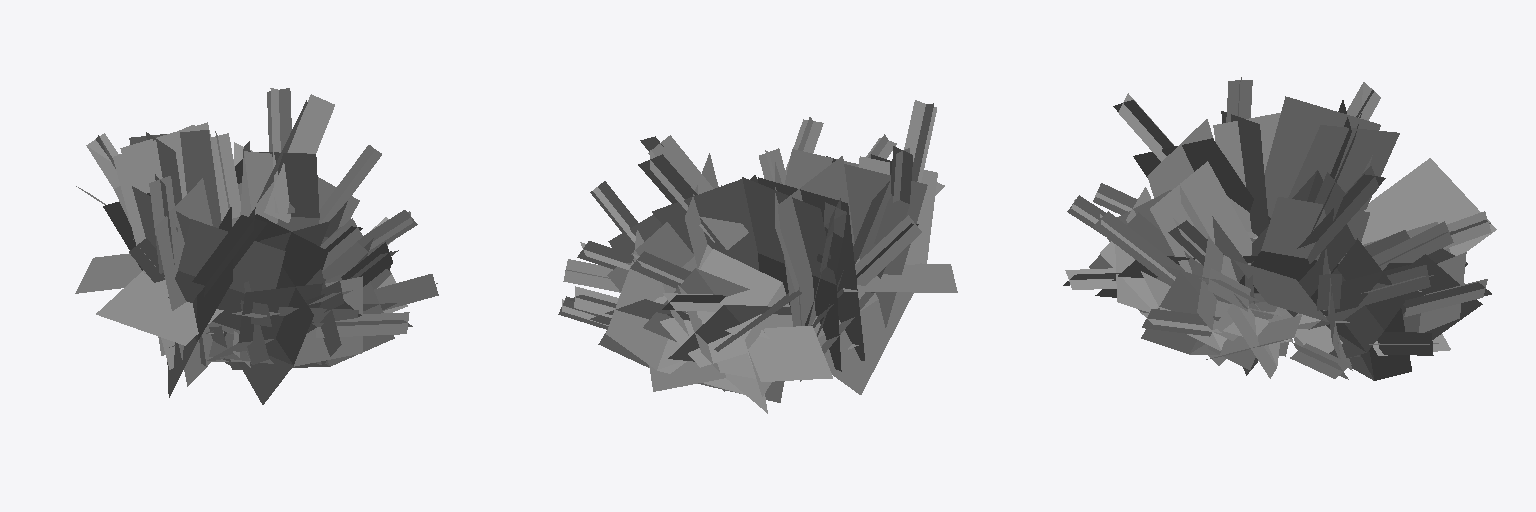
File: flower_10.obj
The picture shows the model from 3 angles: view 1: azimuth 30°, elevation 25°; view 2: azimuth 150°, elevation 25°; view 3: azimuth 270°, elevation 25°; orthographic projection.
Parts seen in each view (by area): view 1: flower_10.obj; view 2: flower_10.obj; view 3: flower_10.obj.
Boxes of the visible parts, x1,y1,x2,y2 form: flower_10.obj: [75, 88, 438, 404]; flower_10.obj: [558, 100, 957, 413]; flower_10.obj: [1063, 77, 1496, 380].
Bounding box in the file's own units: 1.24 × 0.8206 × 1.33.